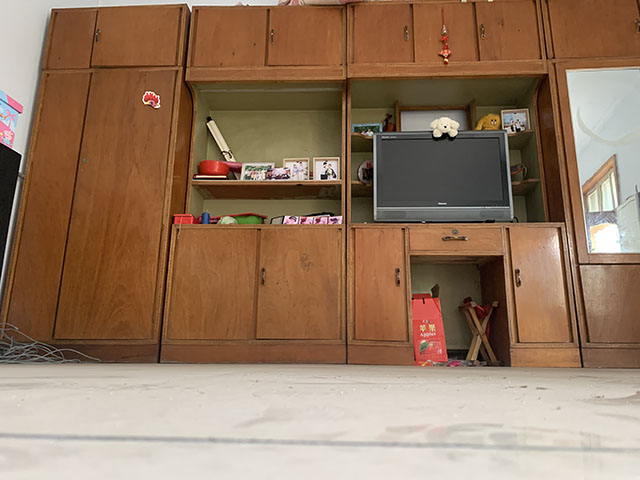cabinet: (1, 221, 640, 369)
stool: (457, 296, 502, 368)
wire: (1, 320, 104, 366)
